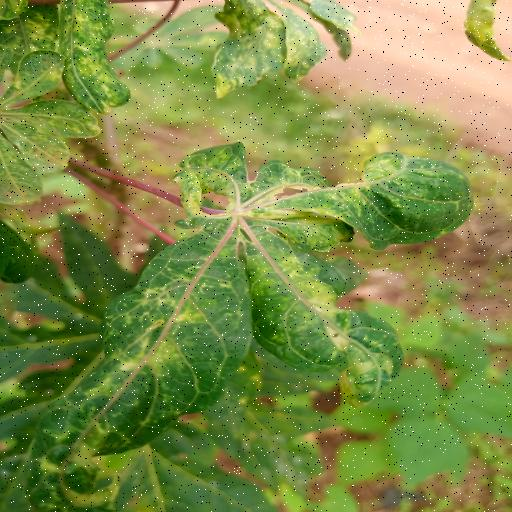Cassava_Mosaic: (81, 140, 455, 460)
